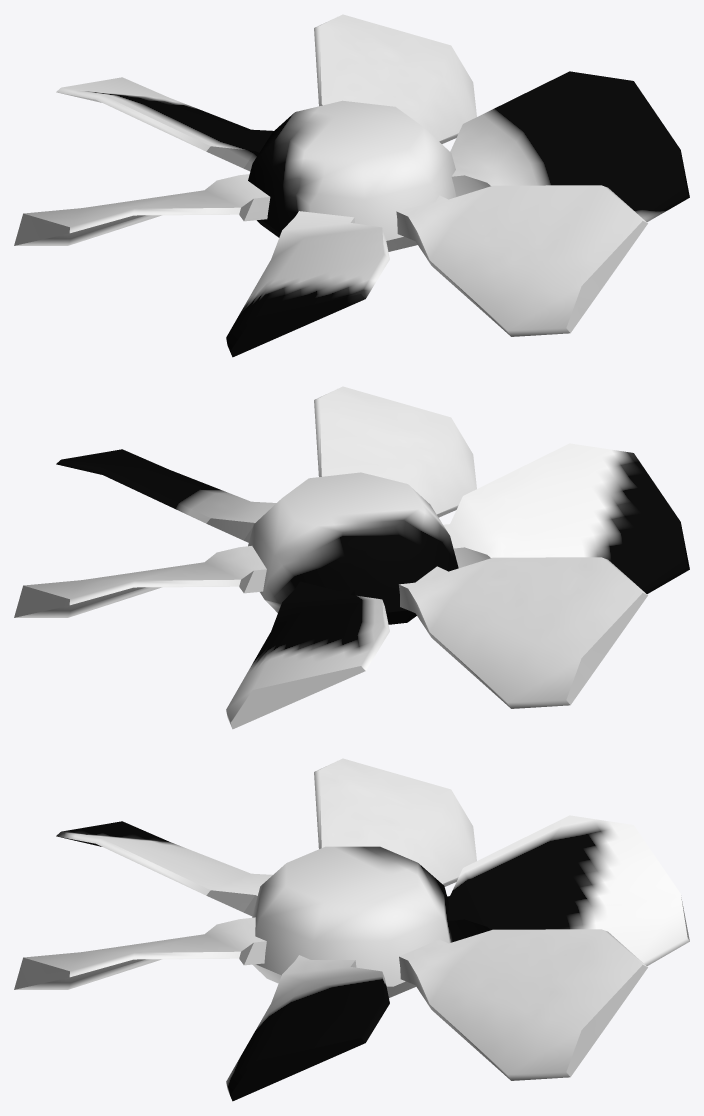
The model's file is WF_top_went_2.fbx.
The picture shows the model from 3 angles, top to bottom: view 1: azimuth 30°, elevation 25°; view 2: azimuth 150°, elevation 25°; view 3: azimuth 270°, elevation 25°; orthographic projection.
Parts seen in each view (by area): view 1: WF_top_went_2; view 2: WF_top_went_2; view 3: WF_top_went_2.
Part boxes in pixels (x1,y1,x2,y2): WF_top_went_2: [14, 14, 689, 357]; WF_top_went_2: [14, 386, 689, 729]; WF_top_went_2: [14, 758, 689, 1101].
Size of the model in its own units: 21.07 by 3.72 by 21.31.
